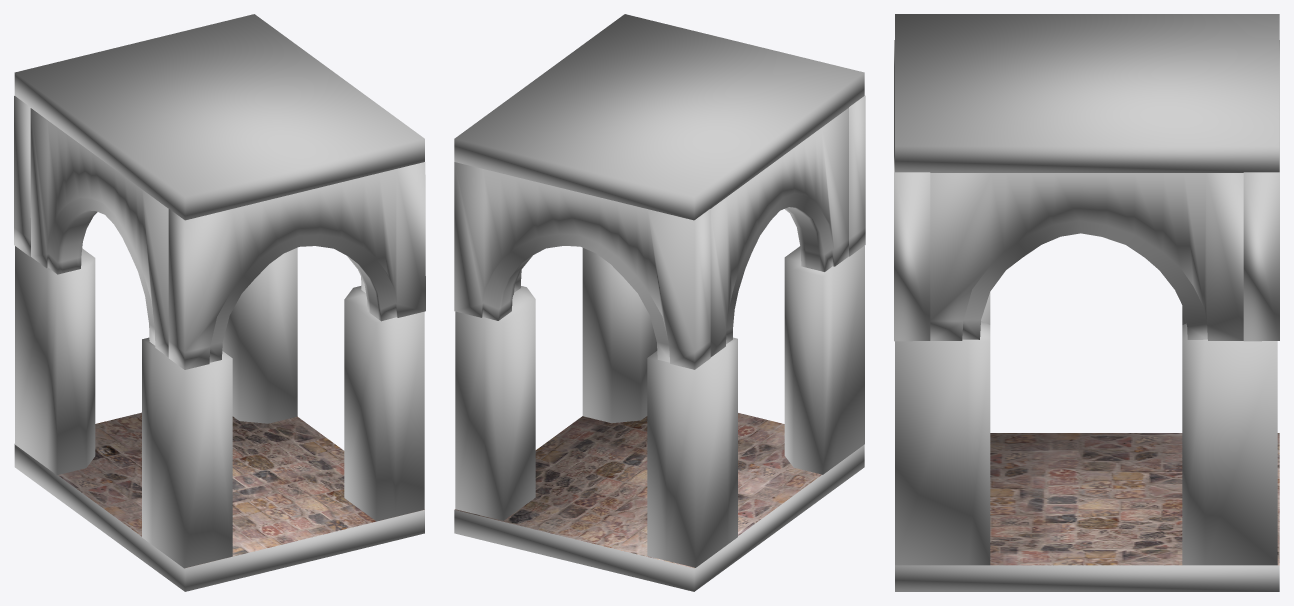
Rendered from junction.dae.
The picture shows the model from 3 angles, left to right: view 1: azimuth 30°, elevation 25°; view 2: azimuth 150°, elevation 25°; view 3: azimuth 270°, elevation 25°; orthographic projection. The views are drawn at different scales.
Visible parts, largest first — view 1: meshU3D; view 2: meshU3D; view 3: meshU3D.
Part boxes in pixels (x1,y1,x2,y2): meshU3D: (14,14,425,591); meshU3D: (454,14,865,591); meshU3D: (894,14,1279,591).
Bounding box in the file's own units: 3.95 × 6.18 × 4.84.
